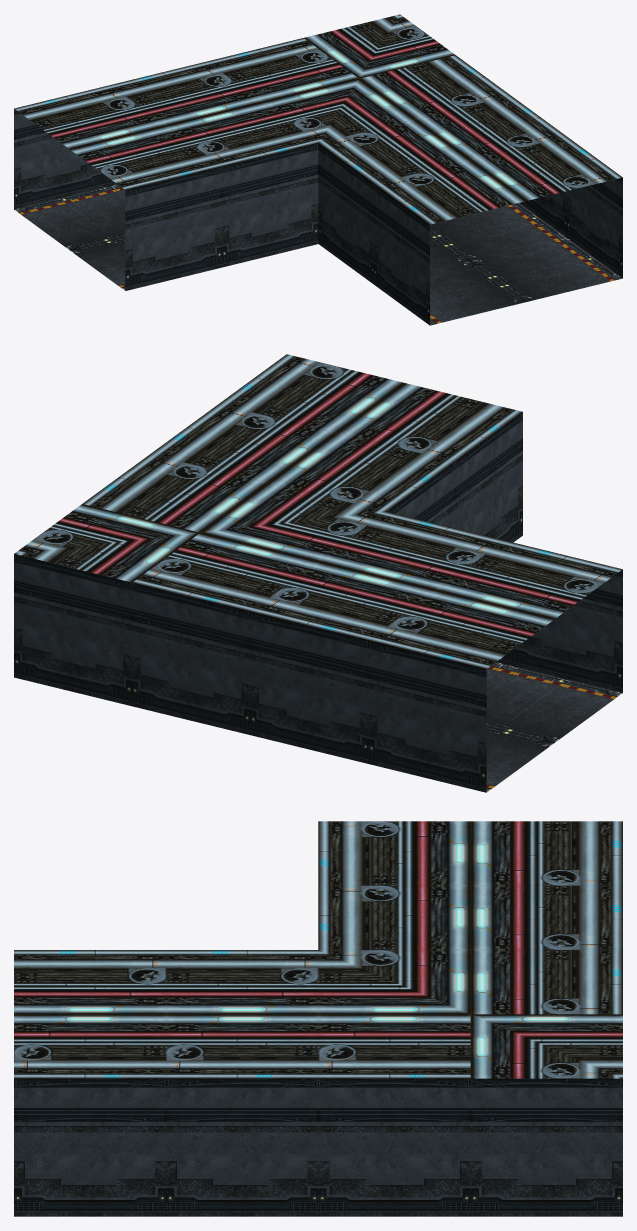
Rendered from pbtunn02.FBX.
The picture shows the model from 3 angles, top to bottom: view 1: azimuth 30°, elevation 25°; view 2: azimuth 150°, elevation 25°; view 3: azimuth 270°, elevation 25°; orthographic projection. The views are drawn at different scales.
Parts seen in each view (by area): view 1: pbtunn02; view 2: pbtunn02; view 3: pbtunn02.
Part boxes in pixels (x1,y1,x2,y2): pbtunn02: [14, 14, 622, 325]; pbtunn02: [14, 354, 622, 792]; pbtunn02: [14, 821, 622, 1216].
Size of what is drawn, in the model's own units: 64 by 64 by 16.
